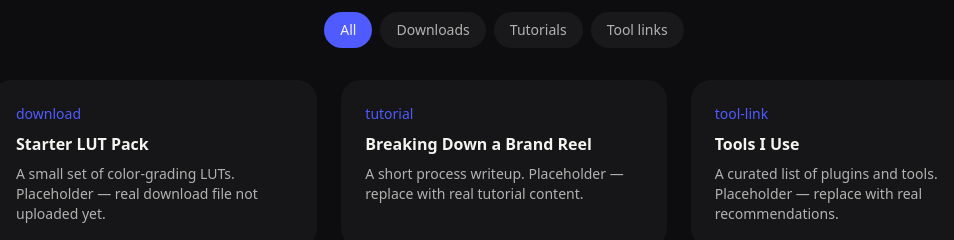
Test: ResourceFilter › filters down to only downloads when Downloads is selected
This screenshot has width=954, height=240.
What coordinates should you click on to do the following:
click the button "Downloads"
I would click on:
 (433, 30)
Its box is [380,12,486,48].
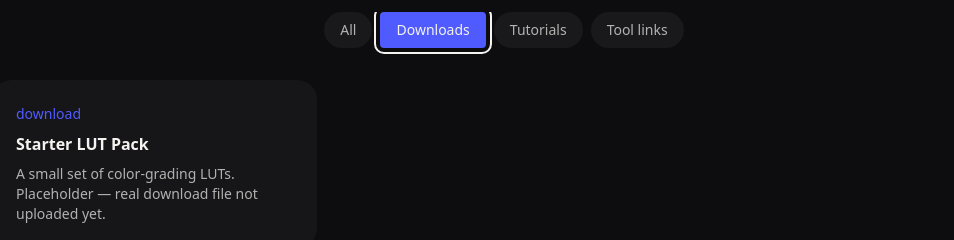
Expected: the text "Starter LUT Pack" is shown, [16,133,149,155]
Now the link "Breaking Down a Brand Reel" is gone
Now the link "Tools I Use" is gone
